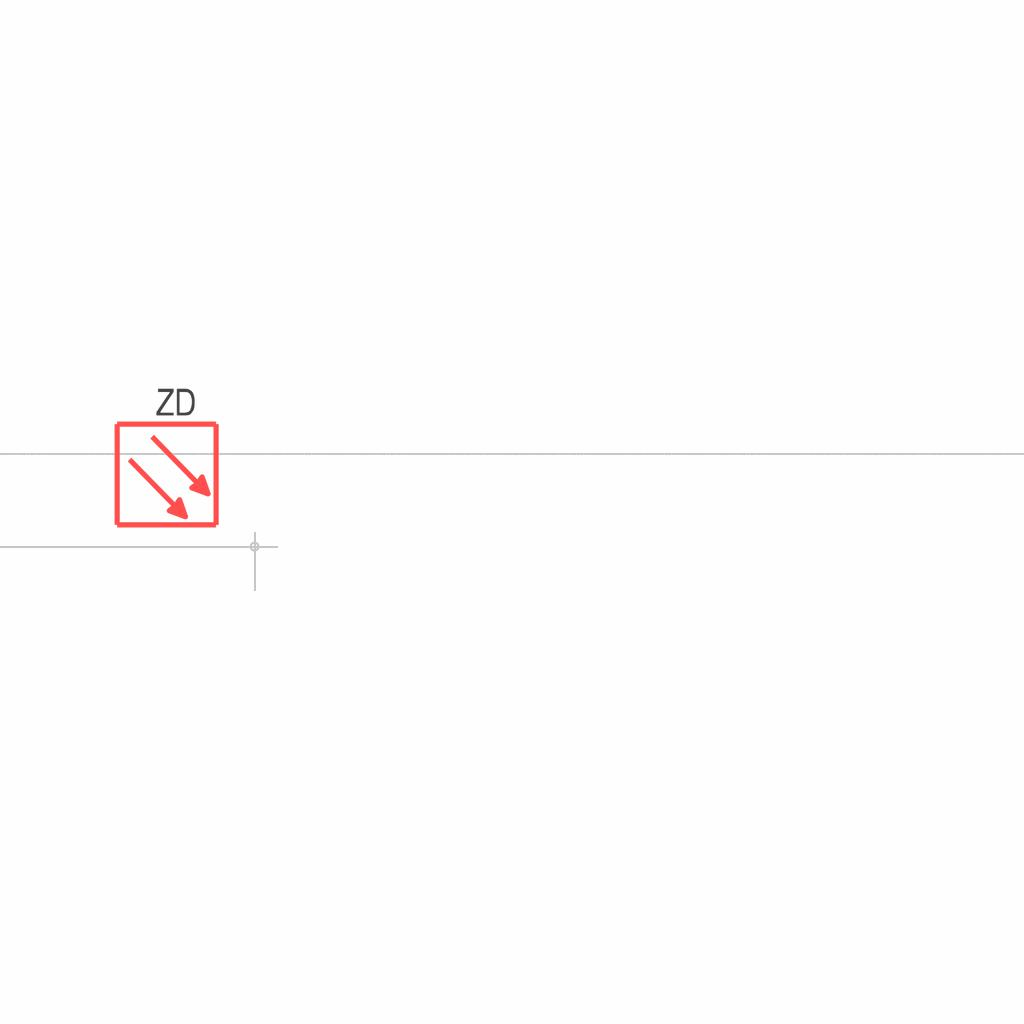ZD_Melder_in_Zwischendecke_mit_Revisionsoeffnung_mind_40_x_40_cm: (108, 381, 222, 530)
